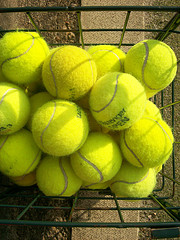tennis ball: (88, 72, 147, 129), (31, 100, 88, 155), (119, 116, 175, 169), (42, 45, 96, 99), (125, 39, 178, 91), (69, 132, 122, 183), (1, 29, 50, 83), (36, 155, 82, 197), (1, 129, 41, 176), (110, 164, 156, 198), (1, 82, 31, 134), (87, 44, 126, 80)
